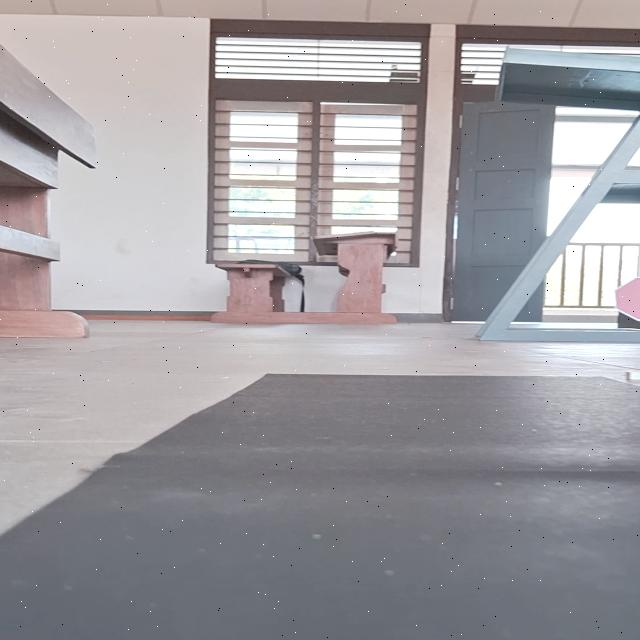Stop: (610, 274, 640, 322)
